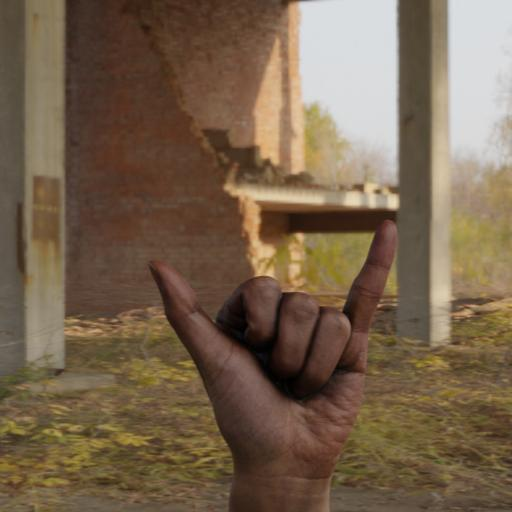Y: (140, 209, 398, 490)
